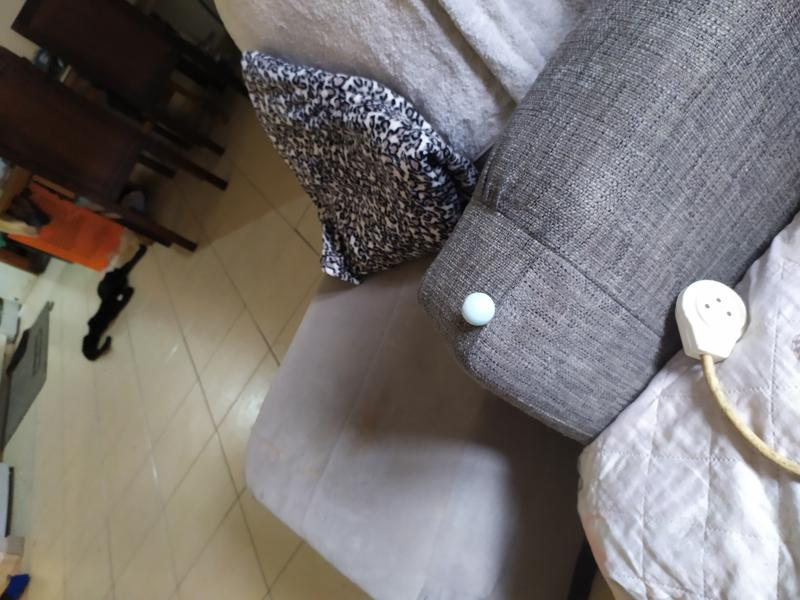Warning: (459, 291, 497, 328)
